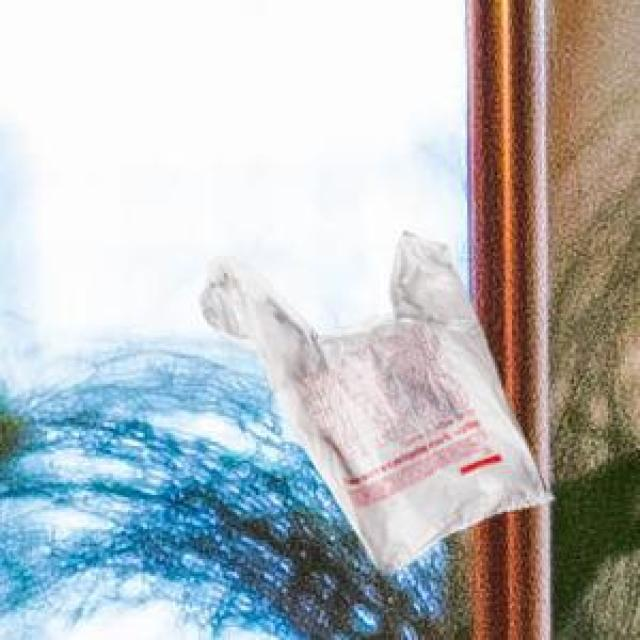plastic: (150, 196, 602, 590)
